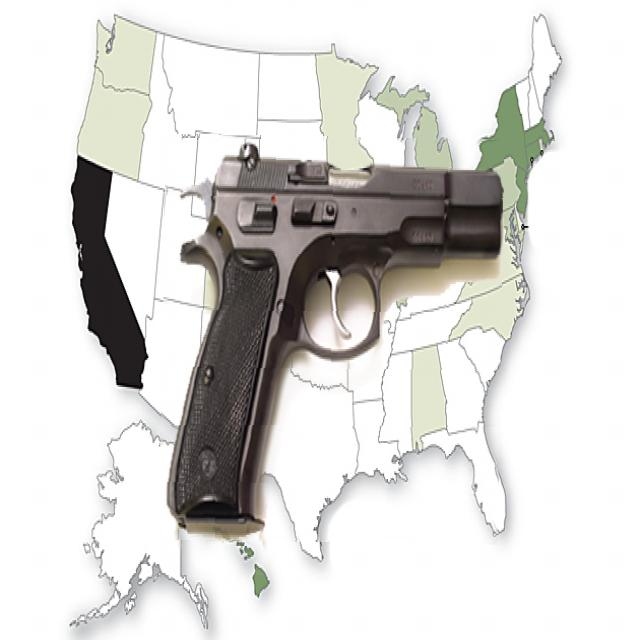gun: (160, 136, 503, 544)
